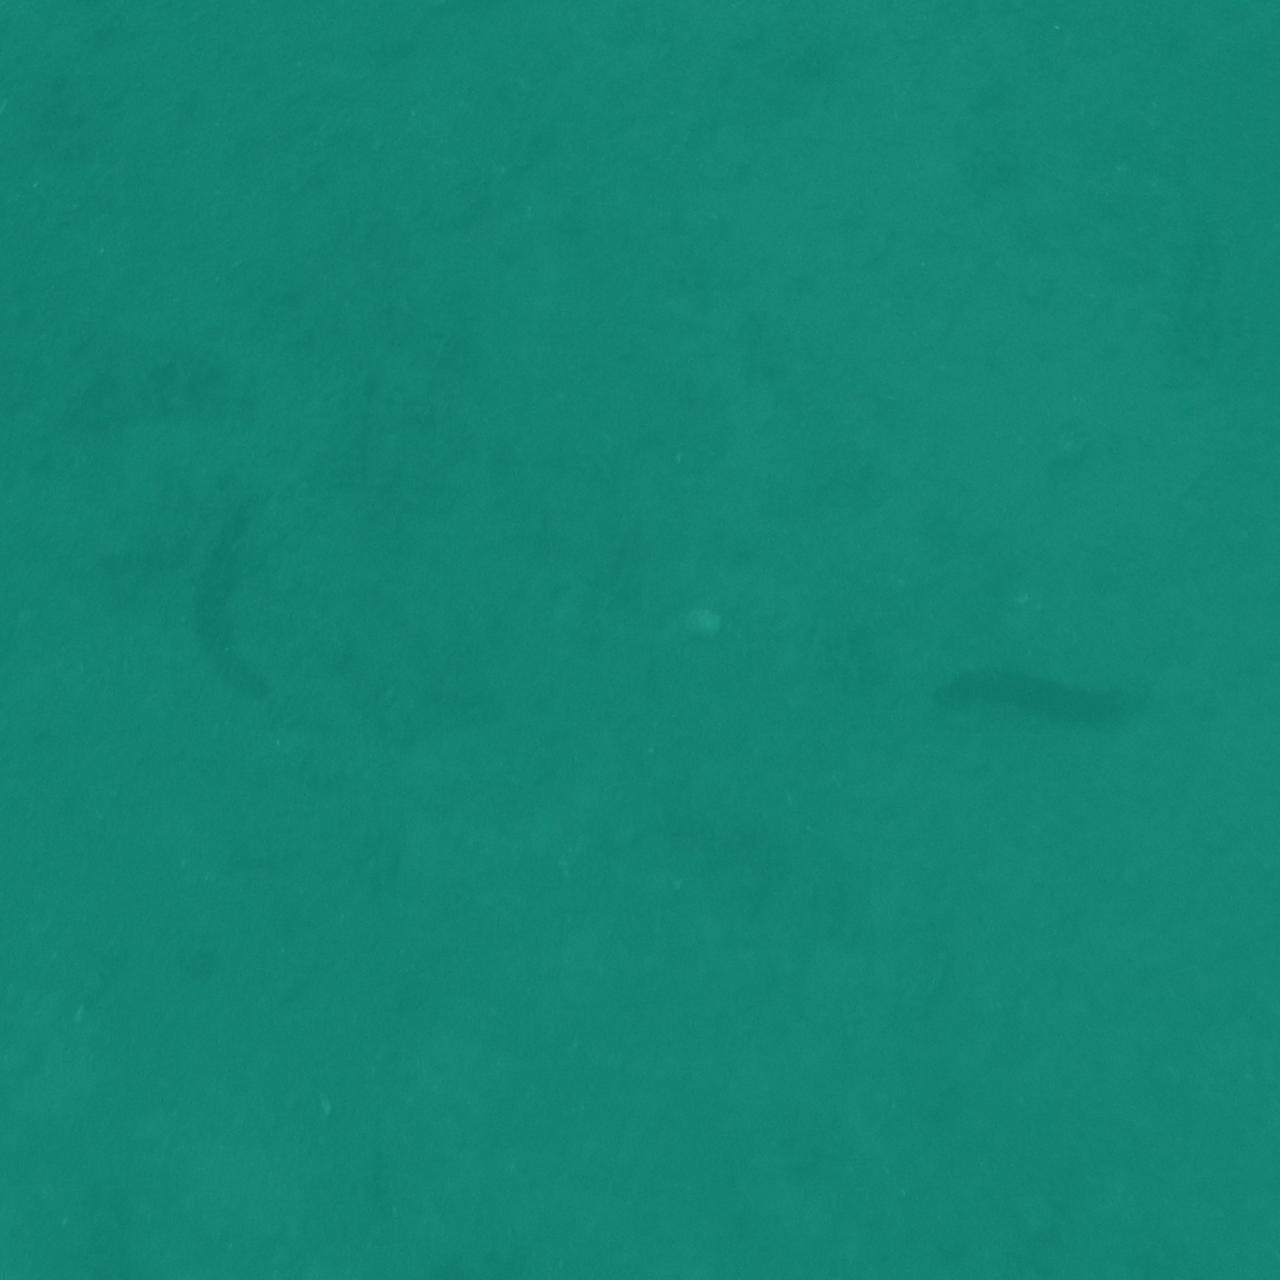Holothuria tubulosa: (912, 626, 1176, 742), (165, 493, 306, 697)
